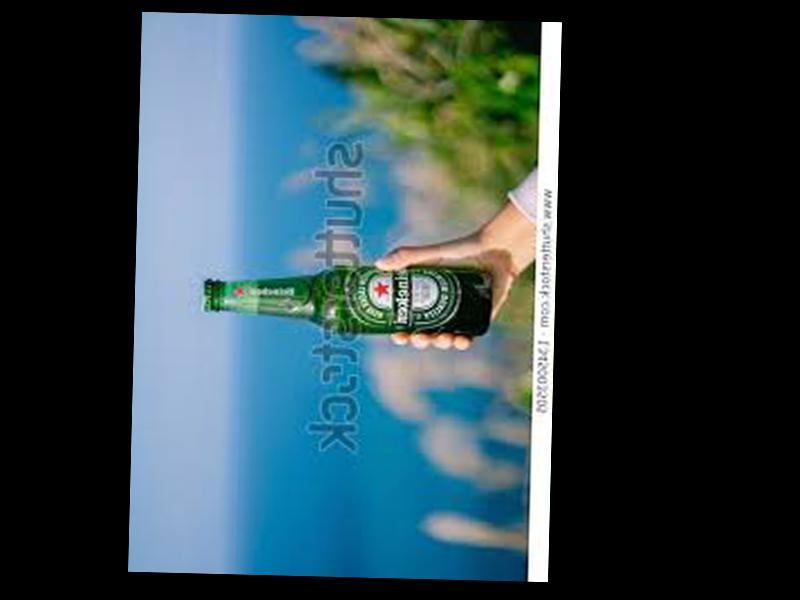Beer: (201, 260, 493, 336)
